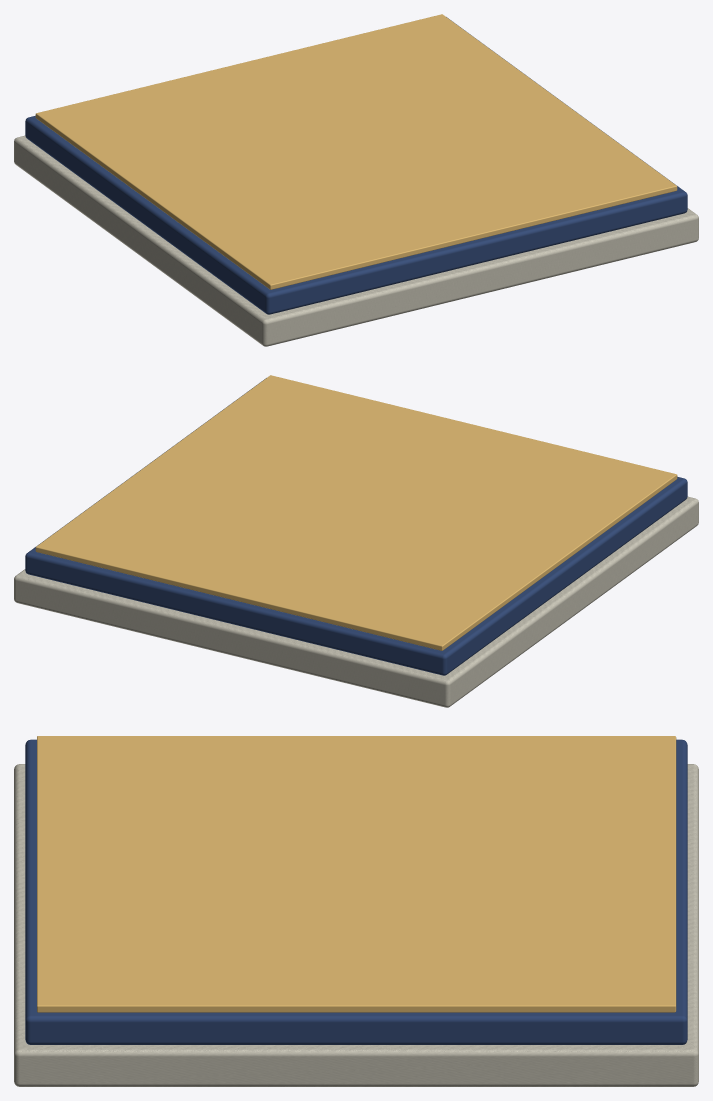
File: arcane-academy-and-spell-trials-roof-bay-56cb49da__28275.glb
3 views of the same model, one above another, from view 1: azimuth 30°, elevation 25°; view 2: azimuth 150°, elevation 25°; view 3: azimuth 270°, elevation 25° (orthographic). The views are drawn at different scales.
Visible parts, largest first — view 1: roof-bay; view 2: roof-bay; view 3: roof-bay.
Boxes of the visible parts, x1,y1,x2,y2 form: roof-bay: (14,14,698,346); roof-bay: (14,375,698,707); roof-bay: (14,736,698,1086).
Bounding box in the file's own units: 3 × 0.3548 × 3.
Materials: 3 (1 with a texture image).
